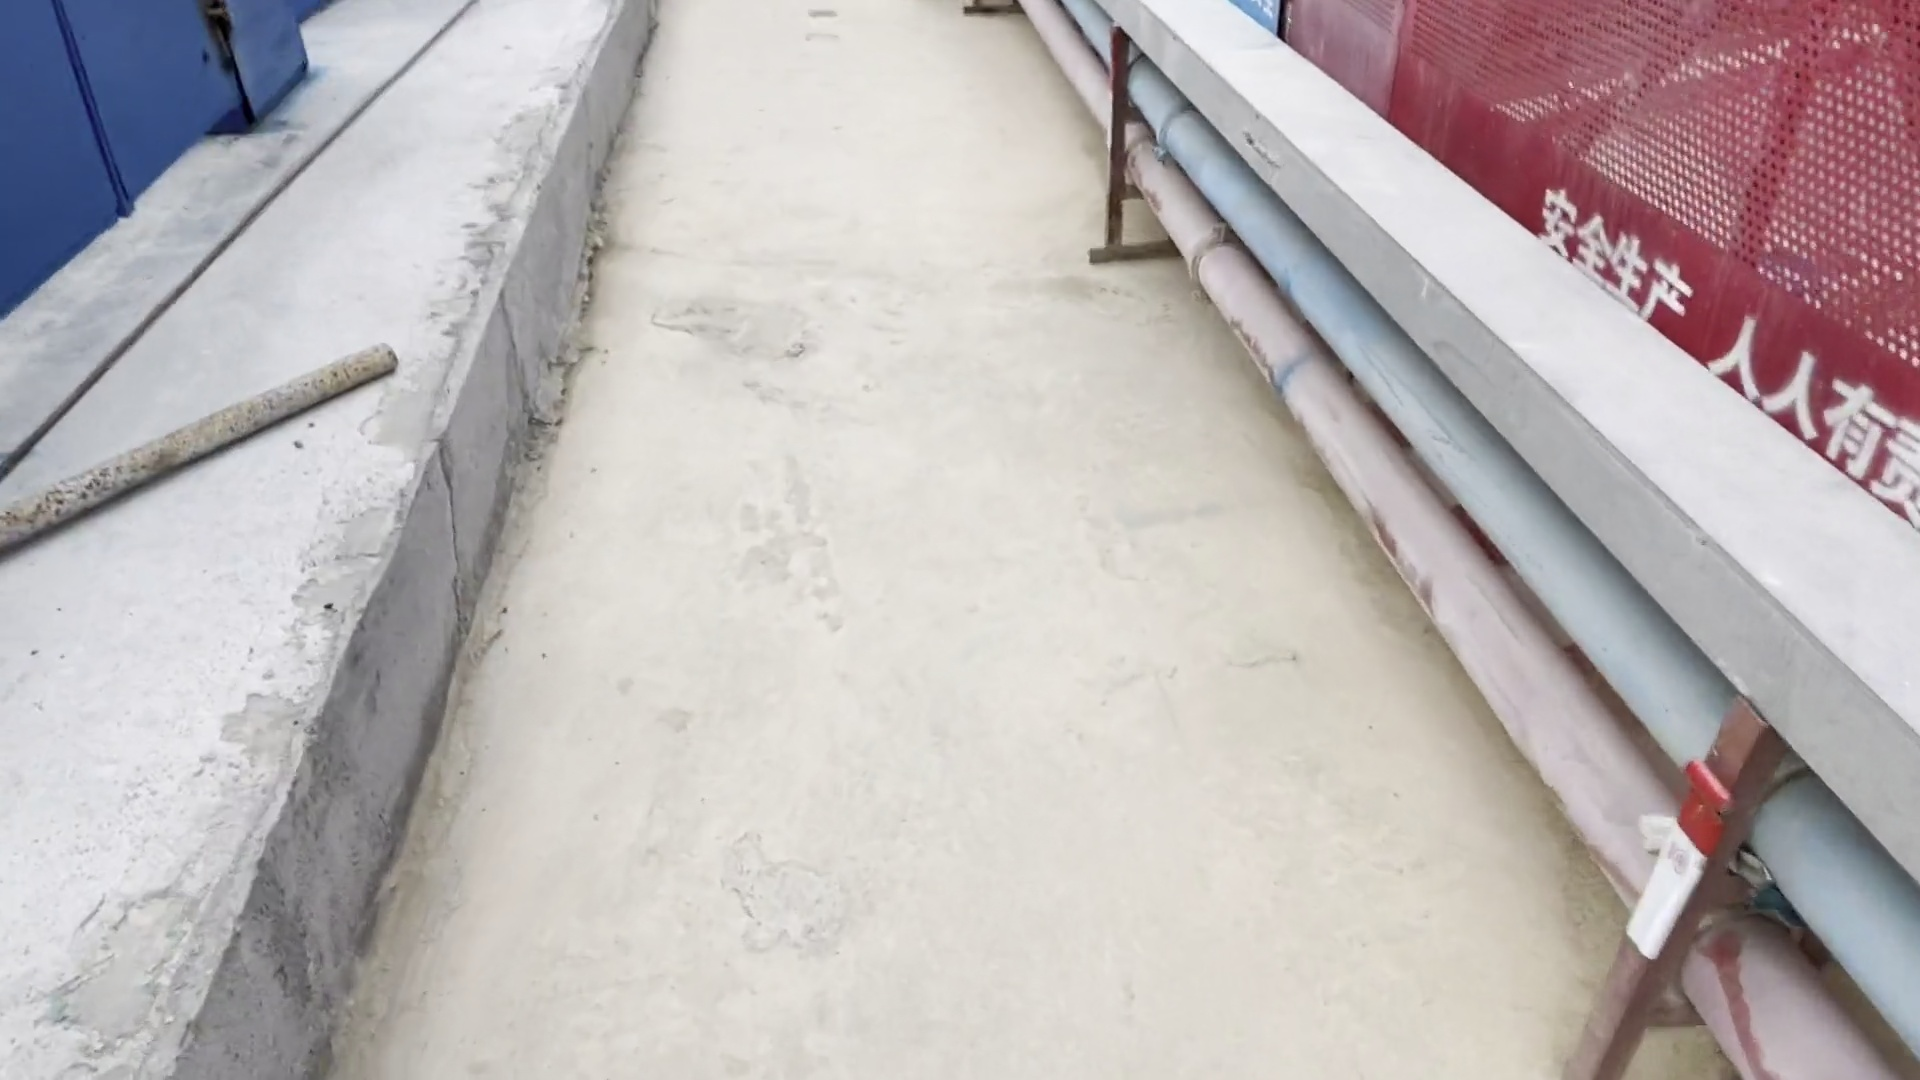fence: (1629, 1, 1907, 504)
slogan: (1528, 165, 1920, 530)
